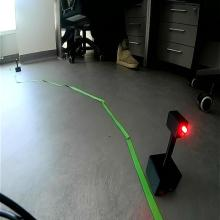red: (169, 110, 190, 138)
